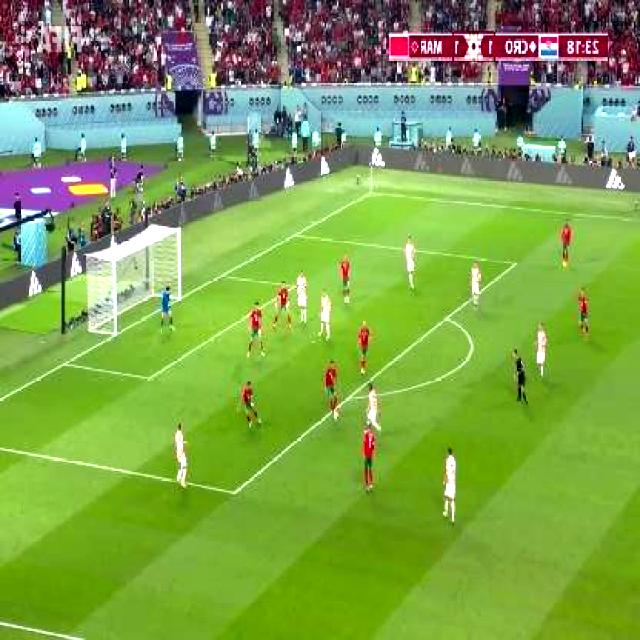bigarea_bottom_inner: (228, 482, 242, 502)
bigarea_top_inner: (511, 255, 520, 271)
bigarea_top_outter: (292, 229, 300, 240)
bottom_arc_area_intersection: (346, 389, 356, 403)
corner: (369, 189, 377, 197)
smallarea_bottom_inner: (143, 368, 157, 388)
smallarea_bottom_outter: (60, 355, 71, 371)
smallarea_top_inner: (290, 280, 298, 292)
smallarea_top_outter: (218, 269, 230, 282)
top_arc_area_intersection: (443, 310, 454, 324)
